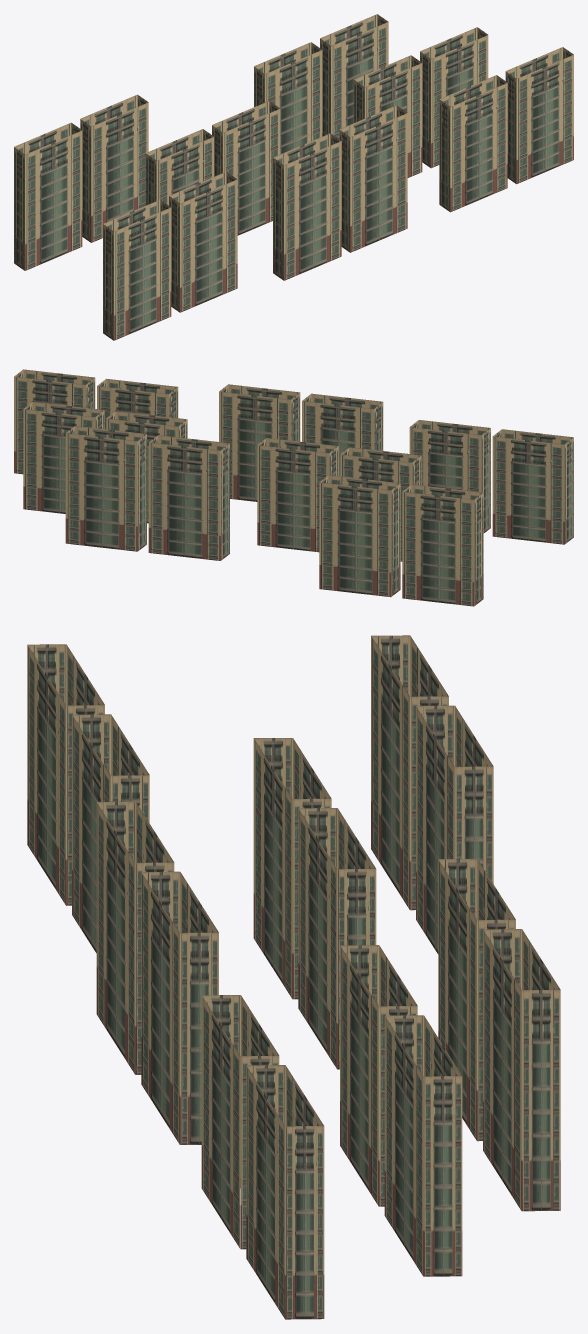
File: build03.FBX
3 views of the same model, one above another, from view 1: azimuth 30°, elevation 25°; view 2: azimuth 150°, elevation 25°; view 3: azimuth 270°, elevation 25° (orthographic). The views are drawn at different scales.
Parts seen in each view (by area): view 1: build03; view 2: build03; view 3: build03.
Boxes of the visible parts, x1,y1,x2,y2 form: build03: [14, 14, 573, 340]; build03: [14, 369, 573, 606]; build03: [27, 635, 560, 1319].
Size of the model in its own units: 5901 by 1281 by 2800.
1 material, 1 textured.
